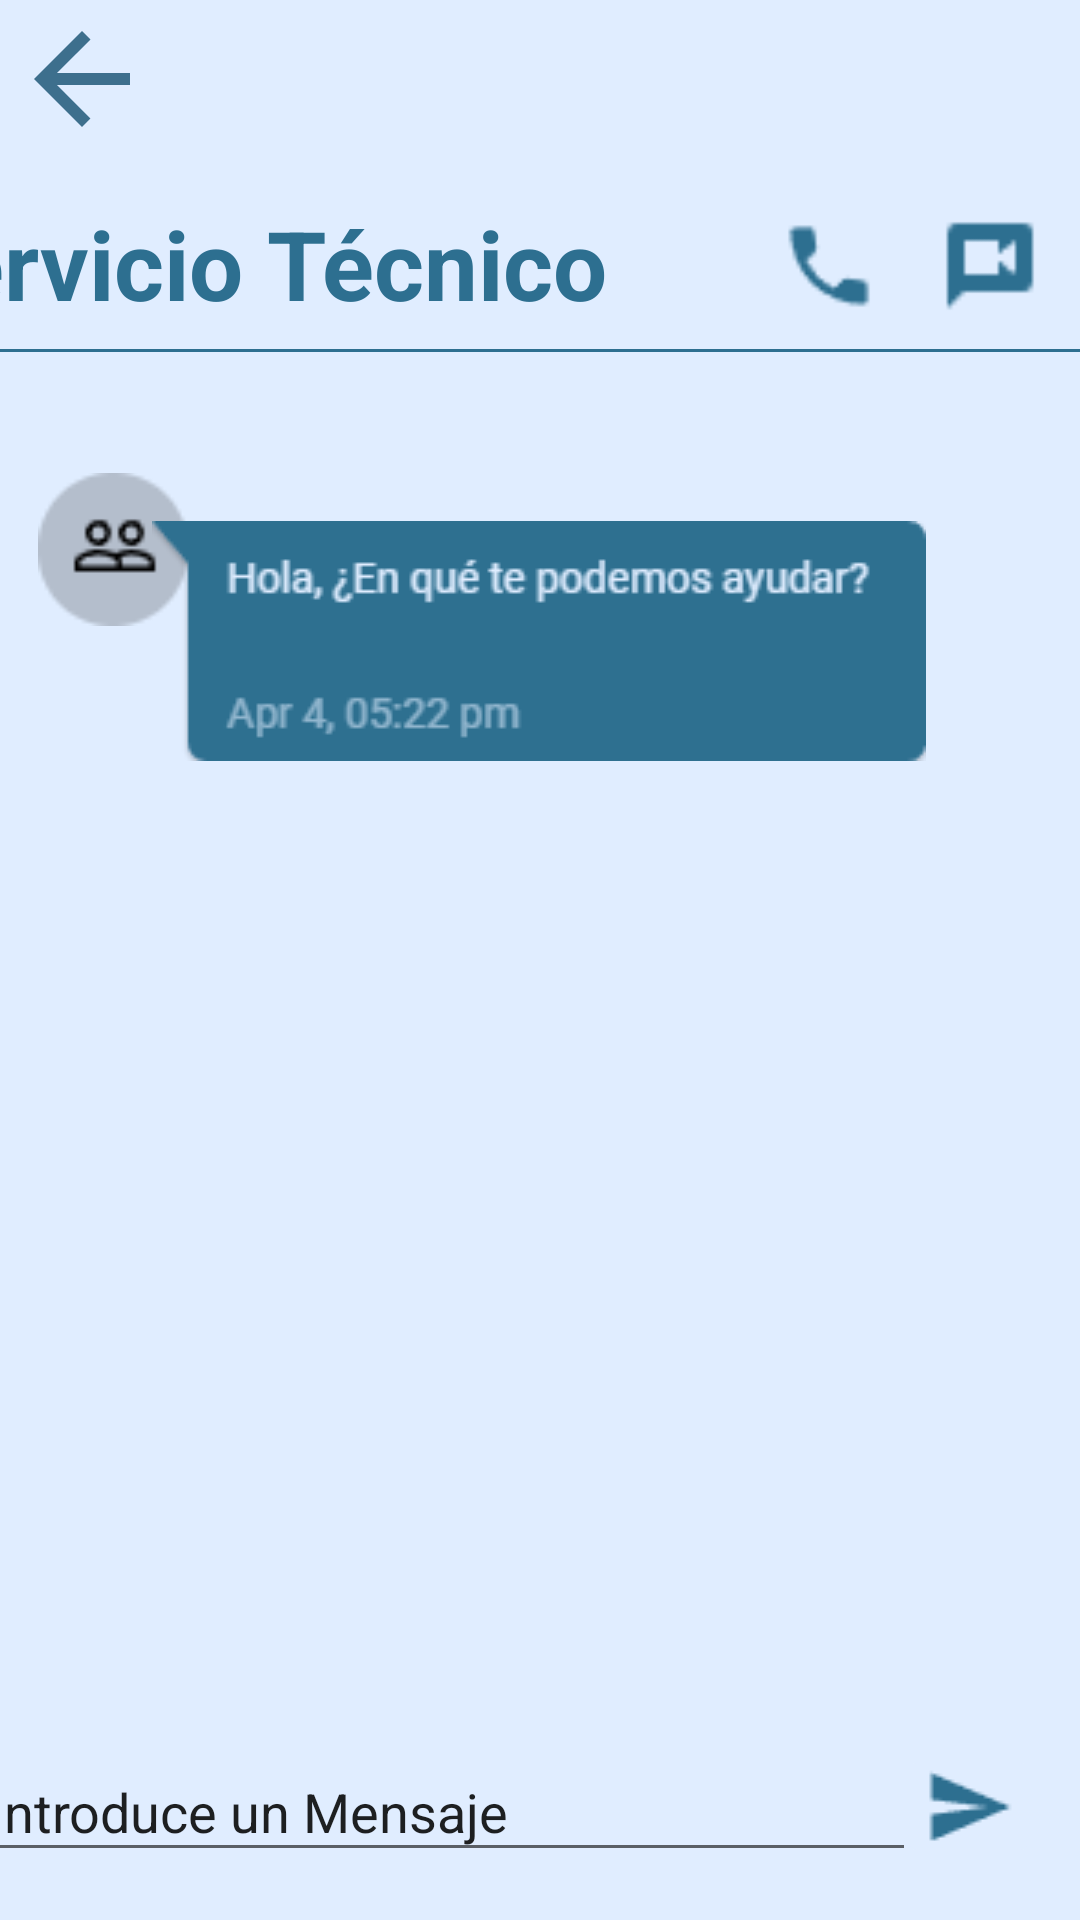

Where icons sit on this 1080w x 1920h app screen, as (x1, y1, x2, y2):
arrow back: (34, 31, 130, 127)
avion: (929, 1773, 1009, 1841)
camarita: (946, 222, 1034, 309)
movil: (788, 225, 870, 307)
perfilgris: (38, 473, 188, 632)
